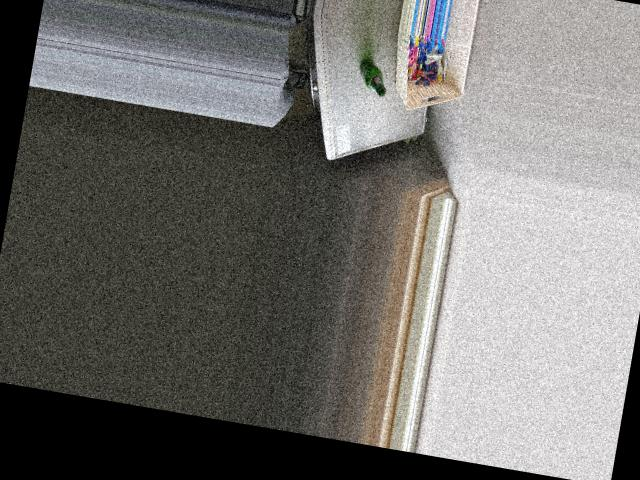beer: (355, 57, 389, 97)
